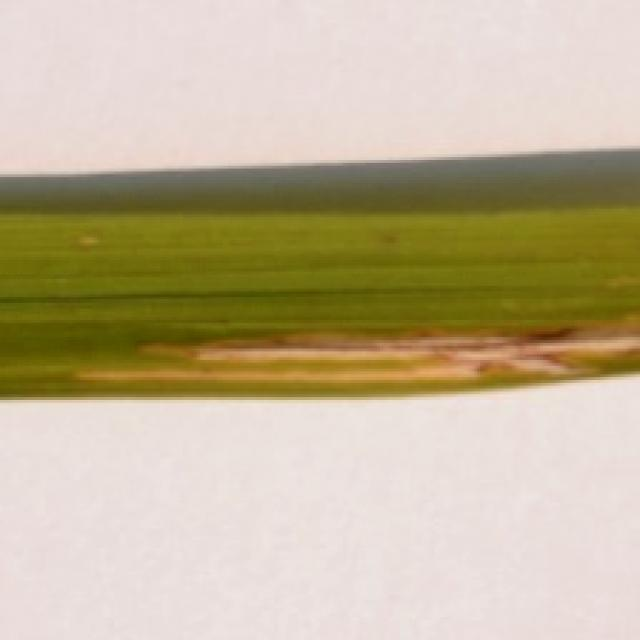Unhealthy: (66, 324, 640, 384)
